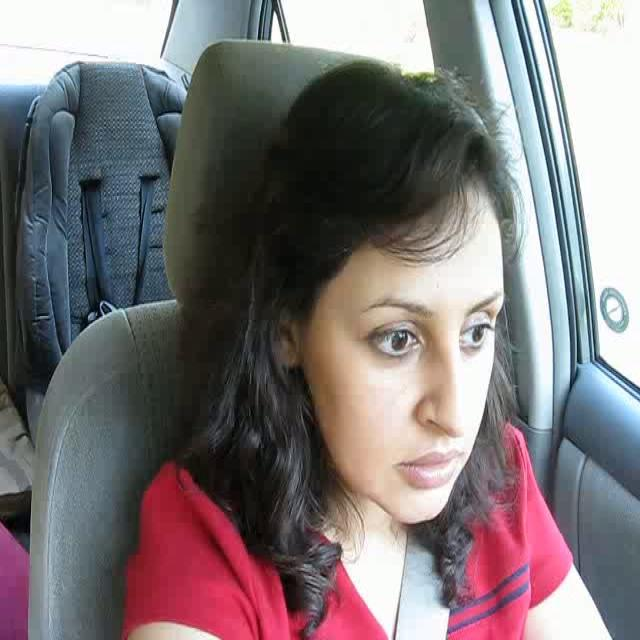close: (396, 446, 468, 488)
